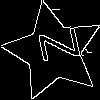Z: (28, 27, 80, 66)
